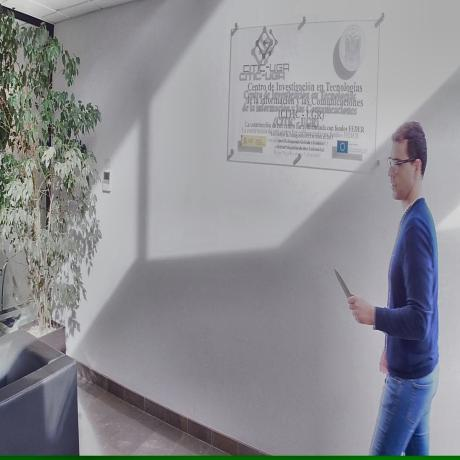1: (334, 102, 440, 460)
weapon: (332, 262, 365, 318)
